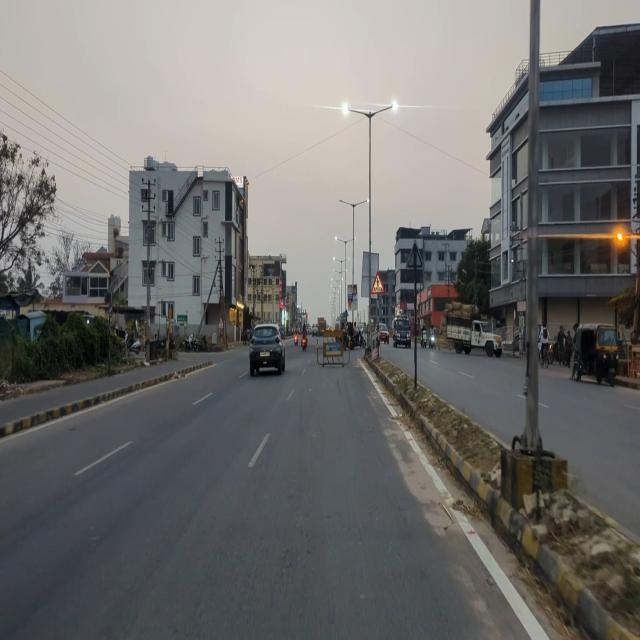bien_nguy_hiem: (370, 268, 384, 296)
